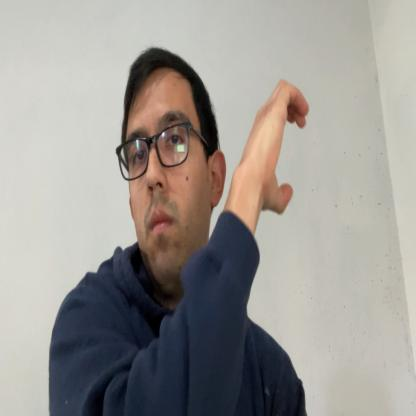C: (261, 76, 310, 218)
